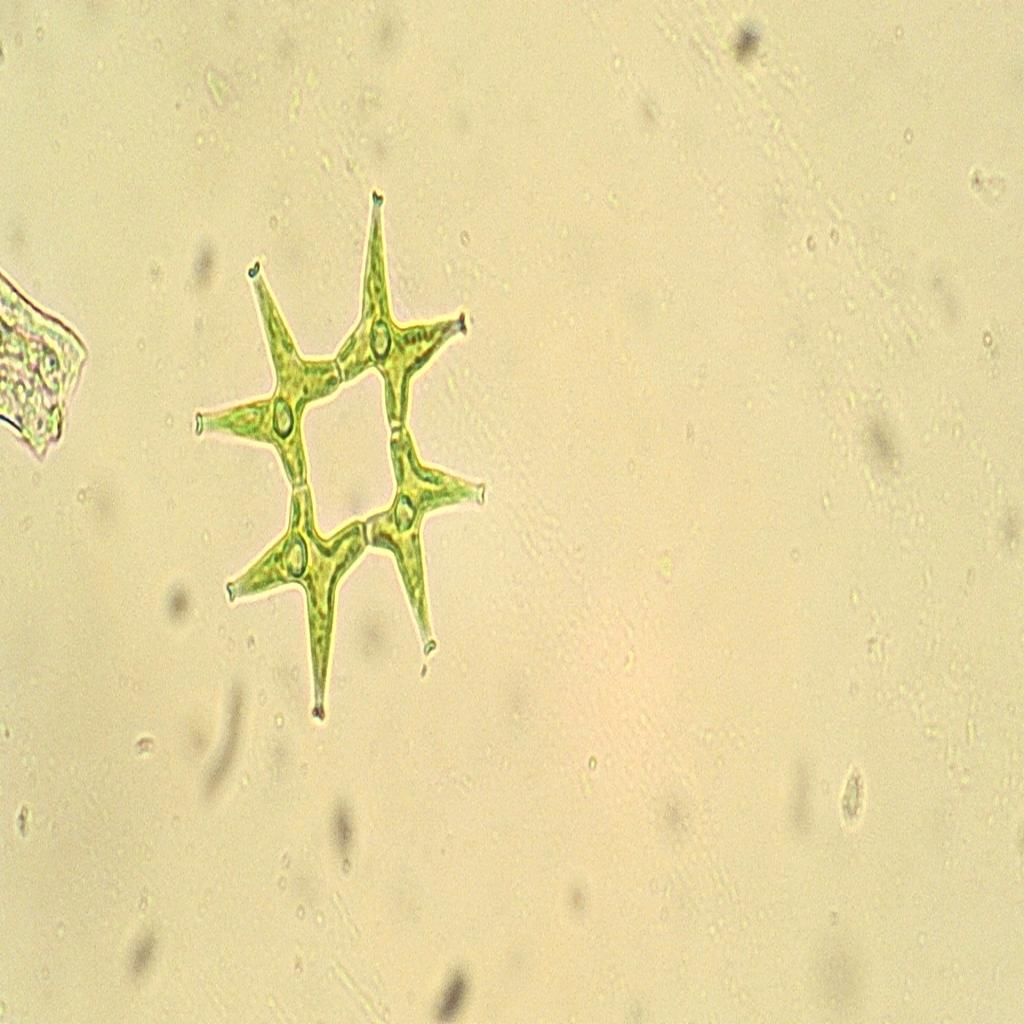Pediastrum_75O: (191, 172, 498, 730)
